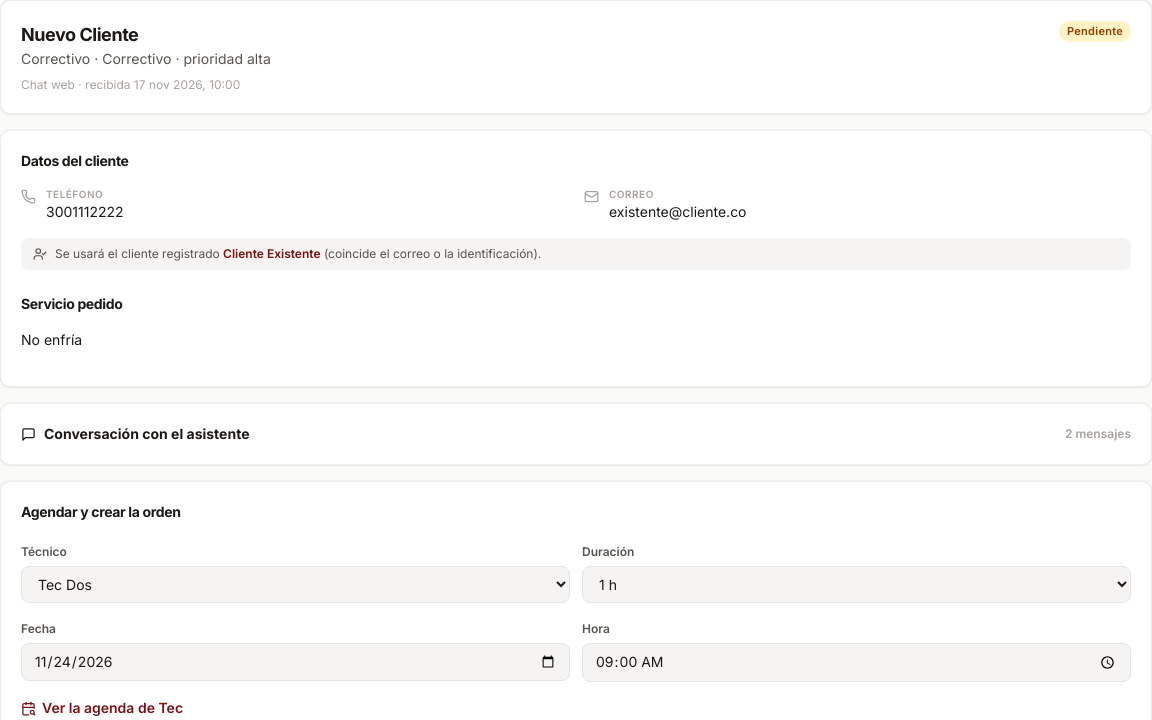
ServiceRequestDetail › muestra el error del servidor si la confirmación falla
Step 1. Select "Tec Dos" in the dropdown labelled "Técnico" → [296, 584], box [21,566,570,603]
Step 2. Select "Tec Dos" in the dropdown labelled "Técnico" → [296, 584], box [21,566,570,603]
(page scrolled)
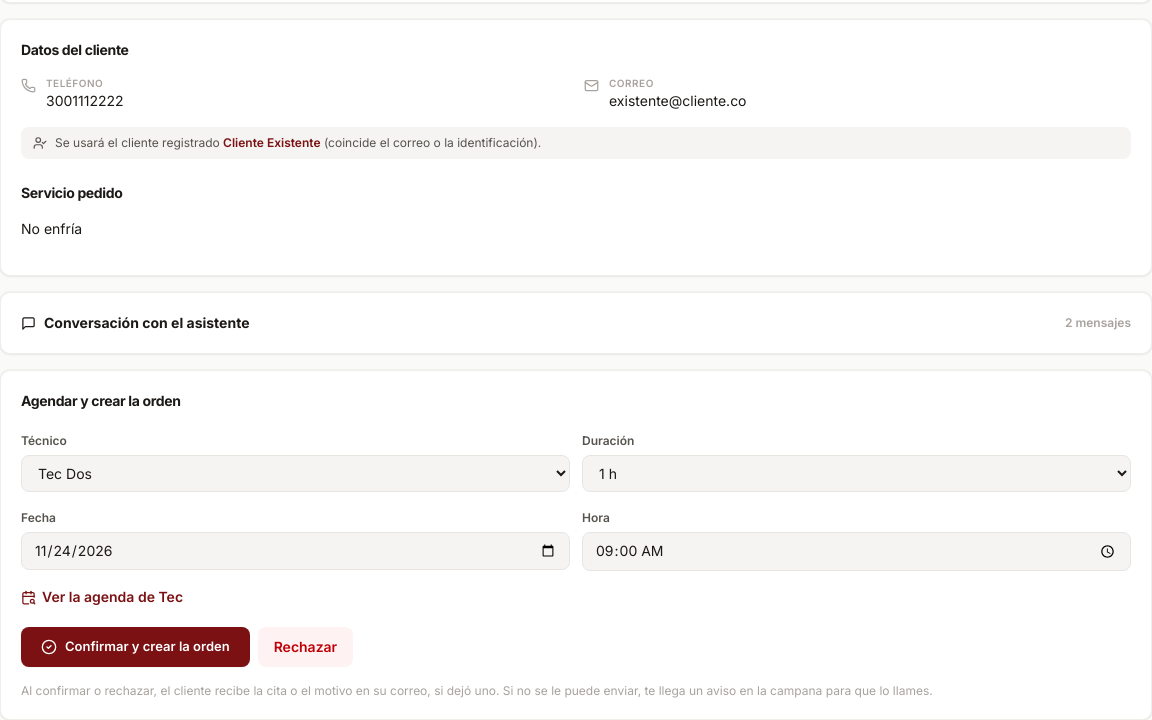
Step 3. Click the button "Confirmar y crear la orden" → [135, 647], box [21,627,250,667]
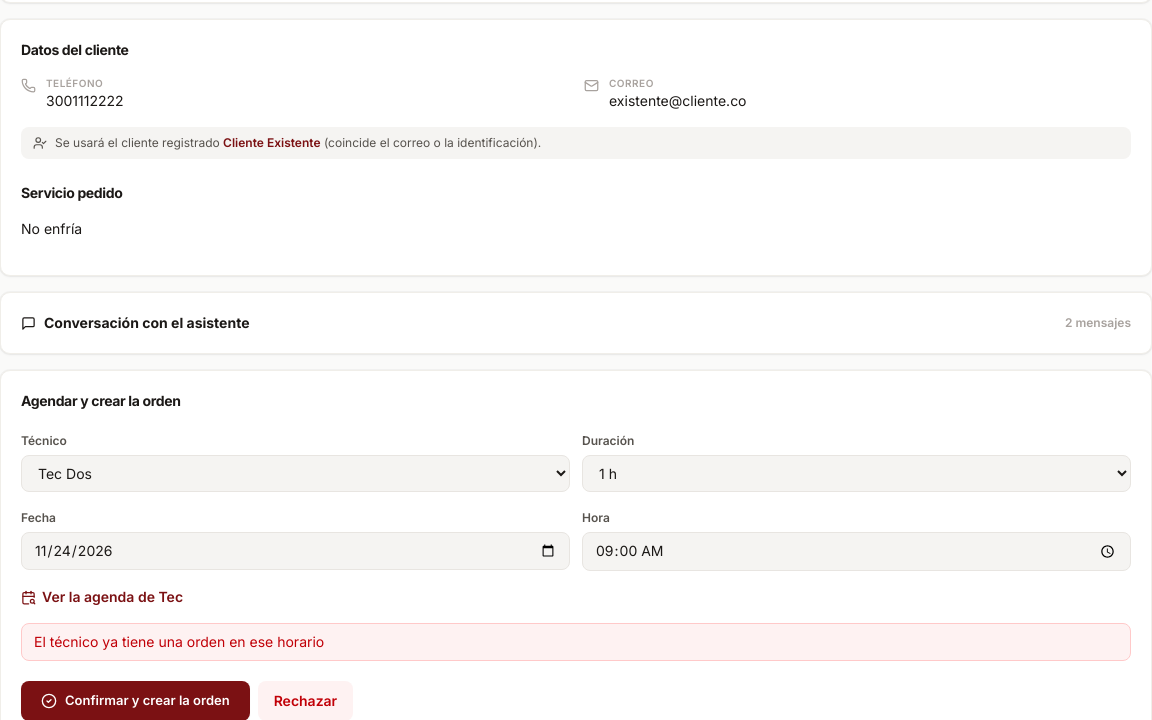
expect the message "El técnico ya tiene una orden en ese horario" is shown: met, box [21,623,1131,661]
